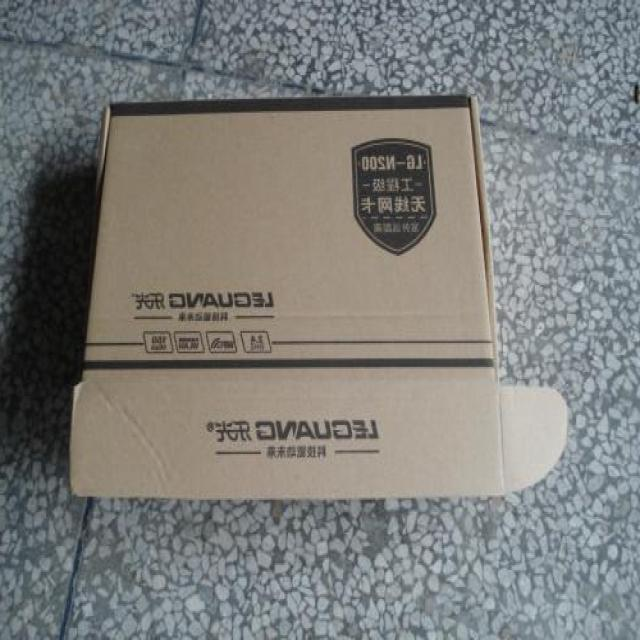cardboard: (74, 90, 546, 505)
